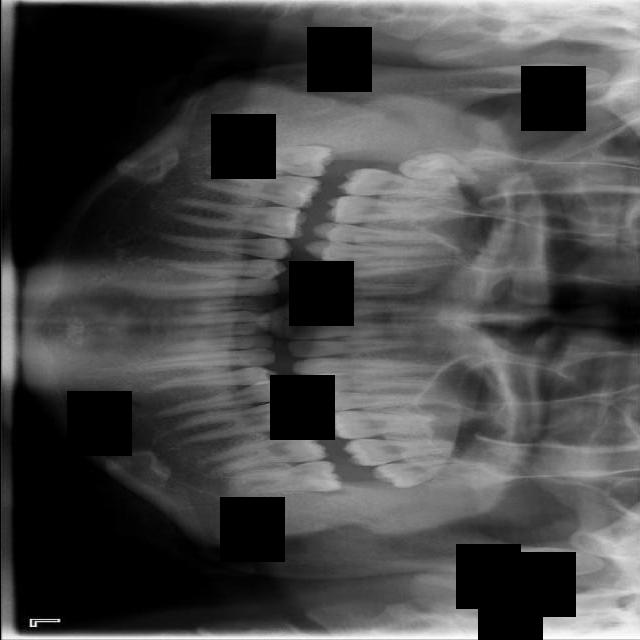3M ESPE Implant: (396, 147, 484, 186)
52: (267, 171, 325, 211)
73: (104, 595, 116, 603)
BioHorizons Implant: (342, 430, 461, 468)
BioLife Implant: (370, 454, 472, 493)
Biomet 3i Implant: (224, 459, 340, 499)
Blue Sky Bio Implant: (201, 426, 328, 481)
Caries: (336, 166, 465, 199)
Implant: (193, 167, 323, 210)
Keystone Dental Implant: (216, 140, 336, 177)
